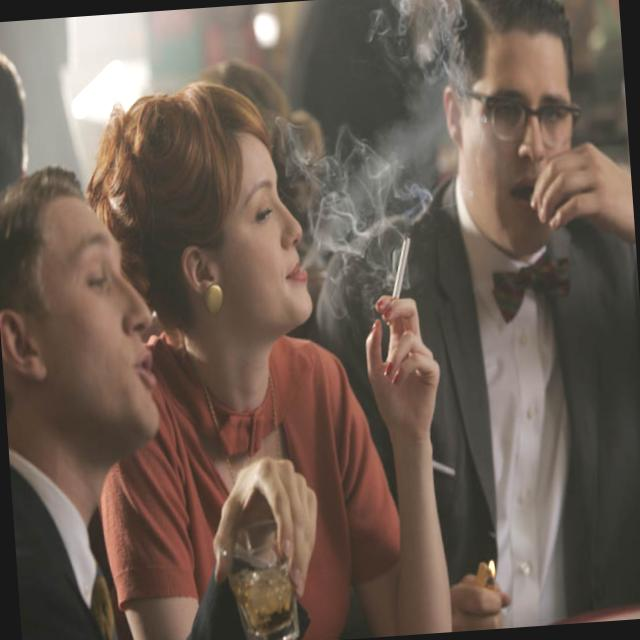cigarette: (381, 232, 416, 314)
